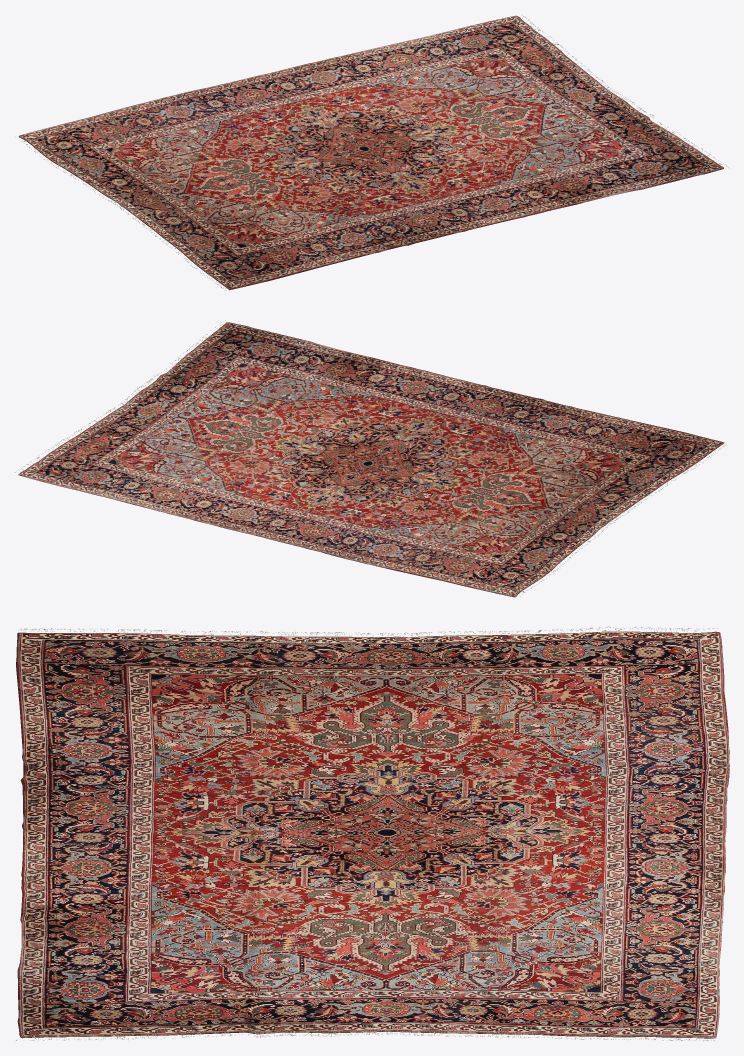
The model's file is fine-persian-heriz-carpet.glb.
The picture shows the model from 3 angles, top to bottom: view 1: azimuth 30°, elevation 25°; view 2: azimuth 150°, elevation 25°; view 3: azimuth 270°, elevation 25°; orthographic projection. The views are drawn at different scales.
Visible parts, largest first — view 1: Fine Persian Heriz Carpet_2; view 2: Fine Persian Heriz Carpet_2; view 3: Fine Persian Heriz Carpet_2, frange2_1, frange1_0.
Part boxes in pixels (box(x1,y1,x2,y2)): Fine Persian Heriz Carpet_2: box(18, 15, 723, 290); Fine Persian Heriz Carpet_2: box(18, 322, 724, 597); Fine Persian Heriz Carpet_2: box(16, 631, 729, 1038); frange2_1: box(16, 1030, 714, 1041); frange1_0: box(18, 626, 717, 636).
Size of the model in its own units: 3.93 by 0.0198 by 2.88.
2 materials, 1 textured.
